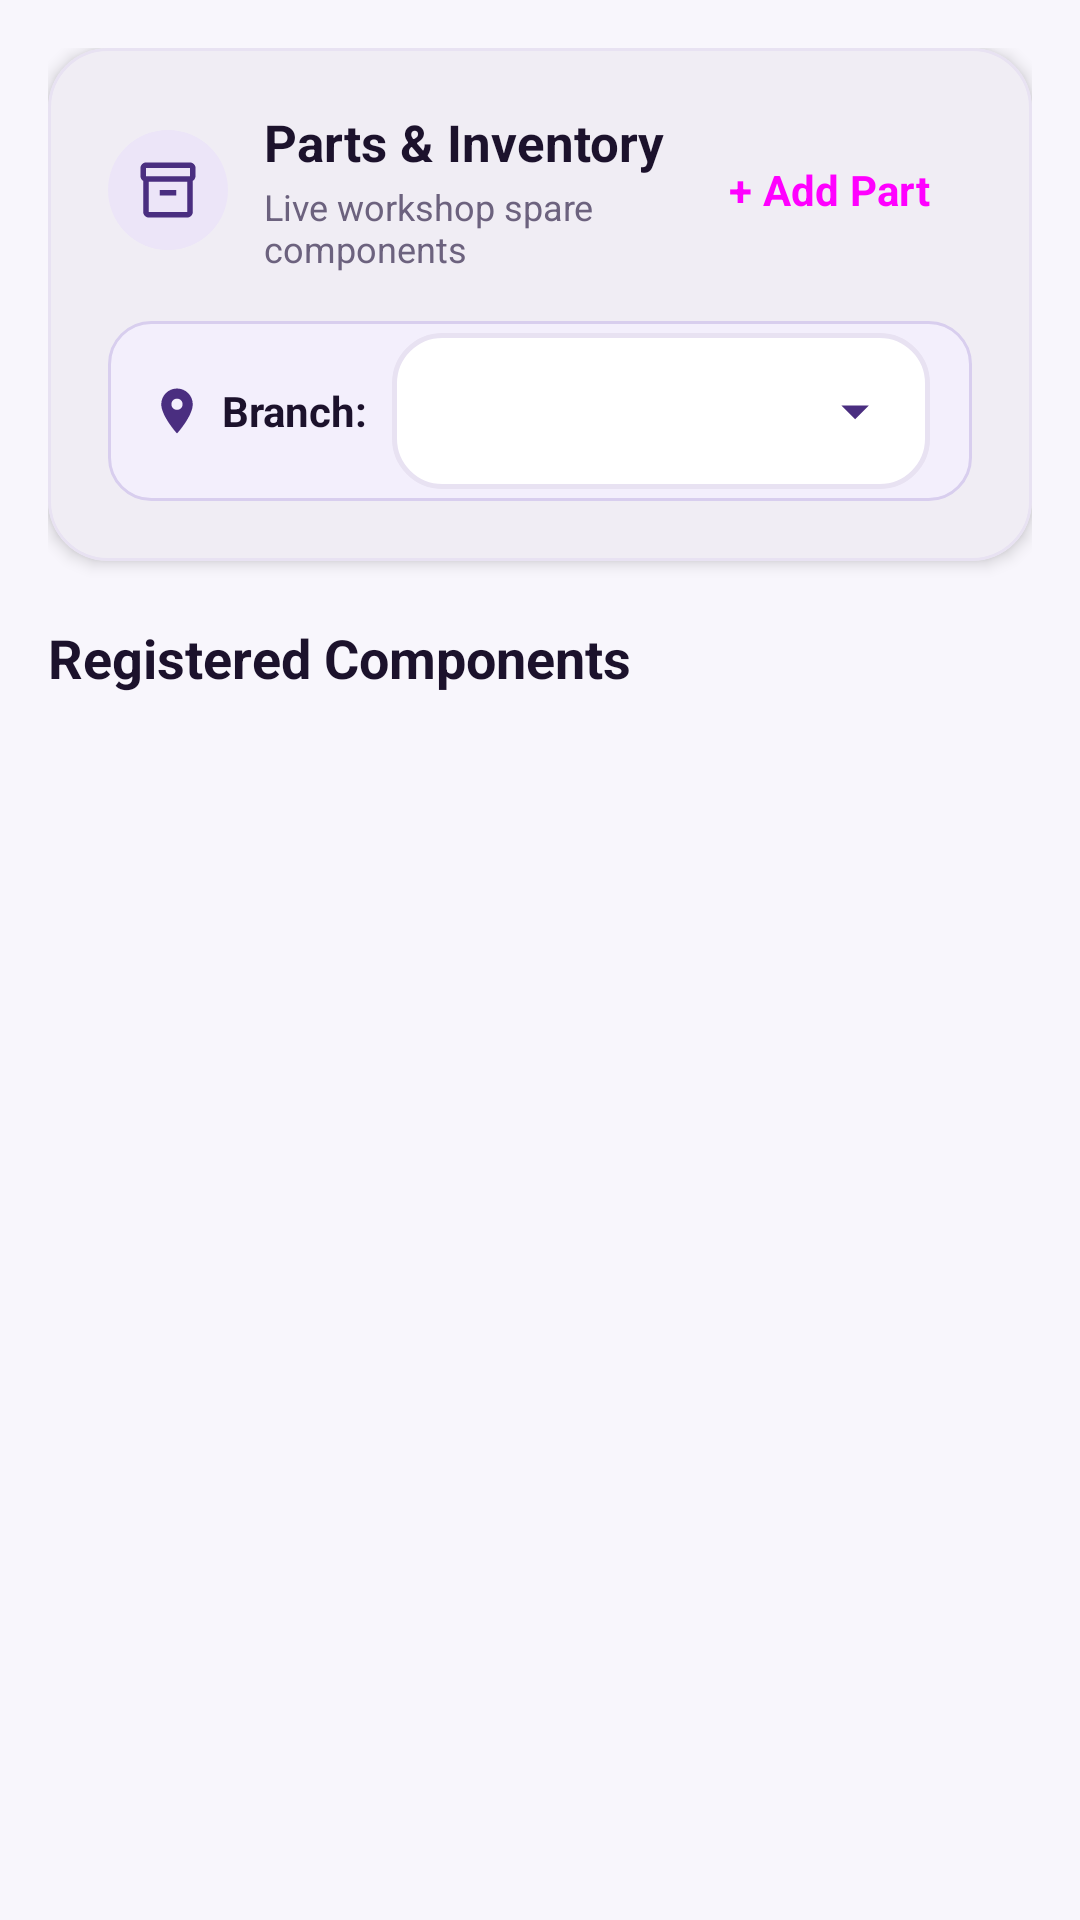

Icon click points for this 1080×1920 phone screenshot, format [x,y]:
location: [177,410]
